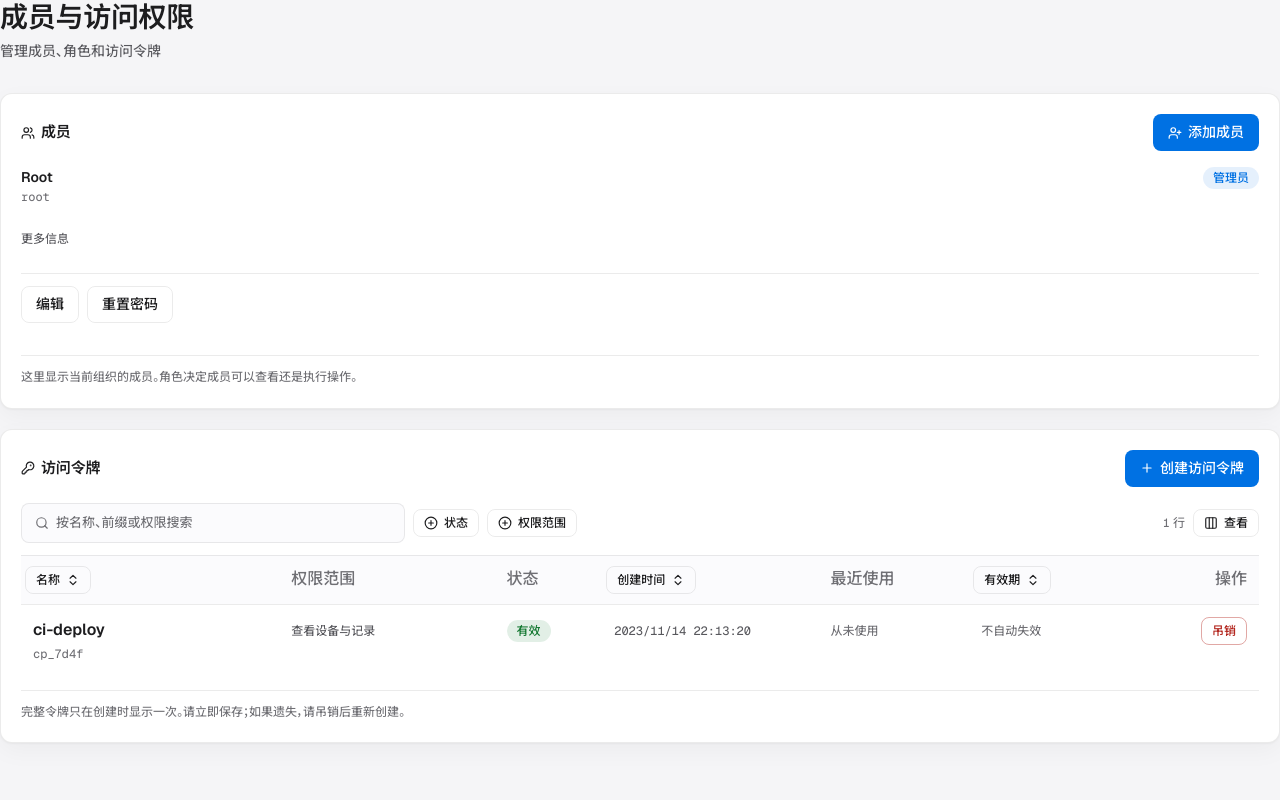
Test: TestCreateTokenSecretShownOnce › 复制给出可访问状态提示（role=status + aria-live）
Click the button "创建访问令牌" at (1192, 468), box [1125,450,1259,486]
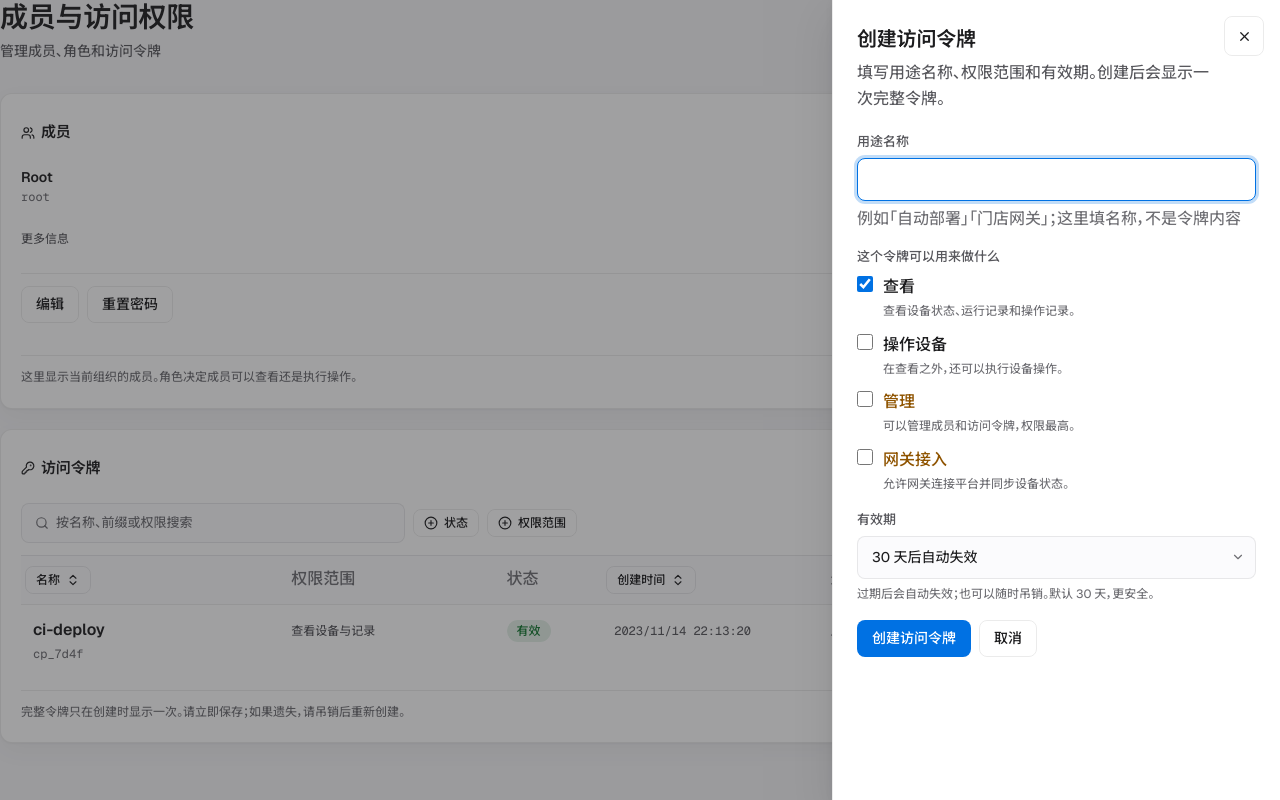
Type "ci-deploy" into the field labelled "用途名称" at (1056, 179), box [857,158,1256,200]
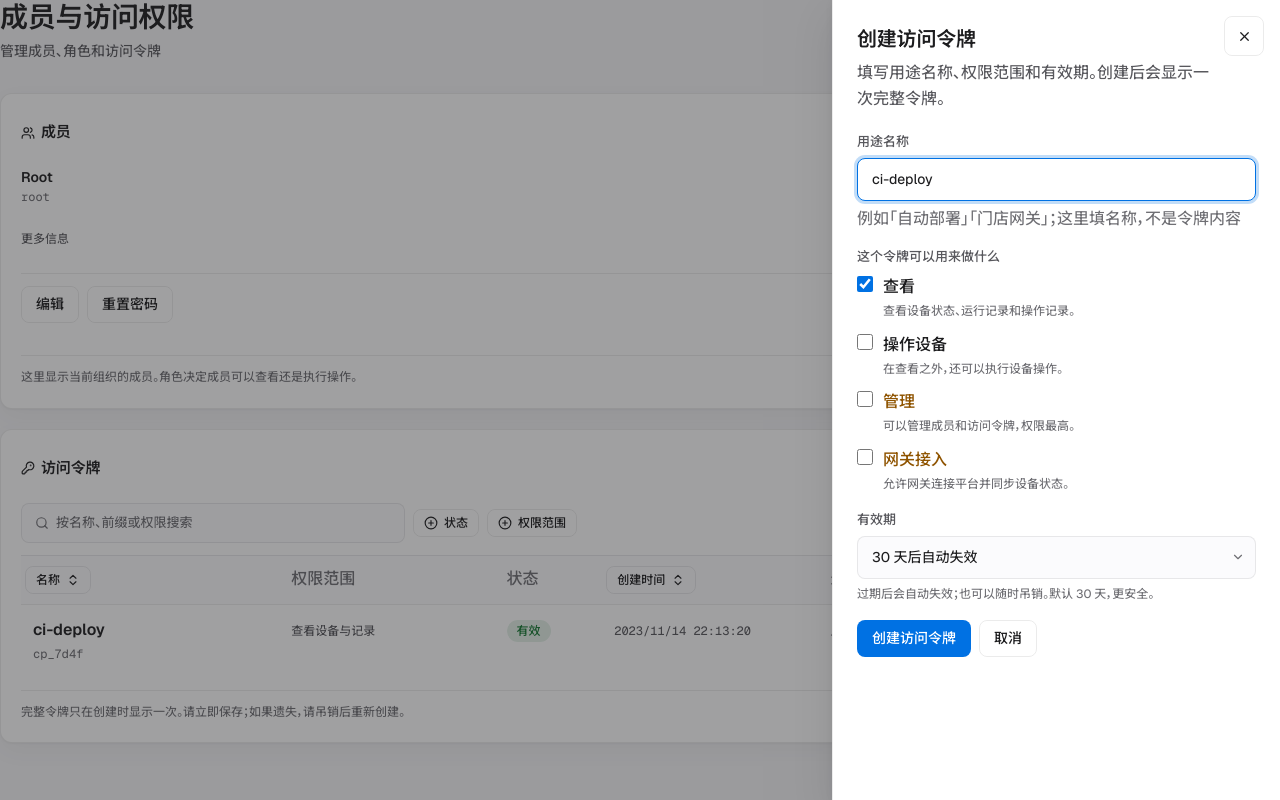
Click the button "创建访问令牌" at (914, 638), box [857,620,971,657]
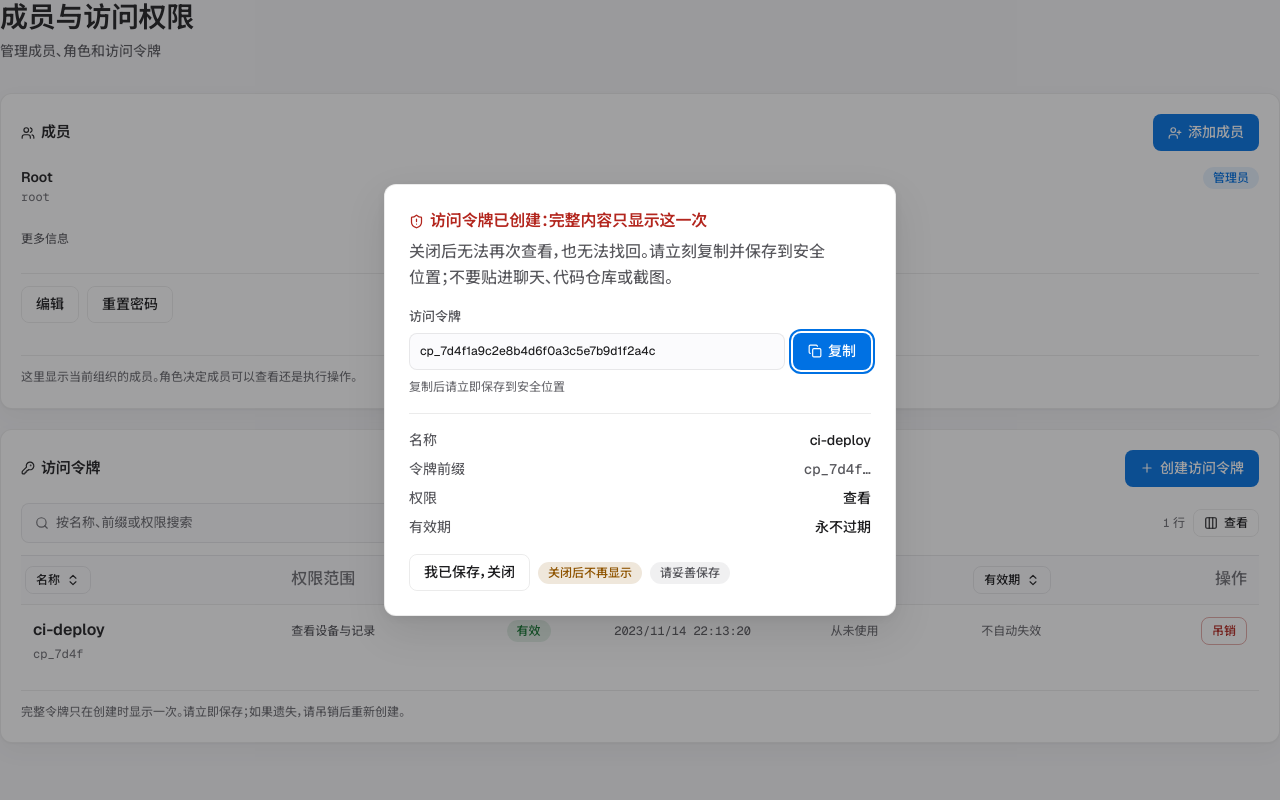
expect the message reads "复制后请立即保存到安全位置": met, box [409,378,565,394]
Click the button with aria-label "复制访问令牌" at (832, 351), box [793,332,871,370]
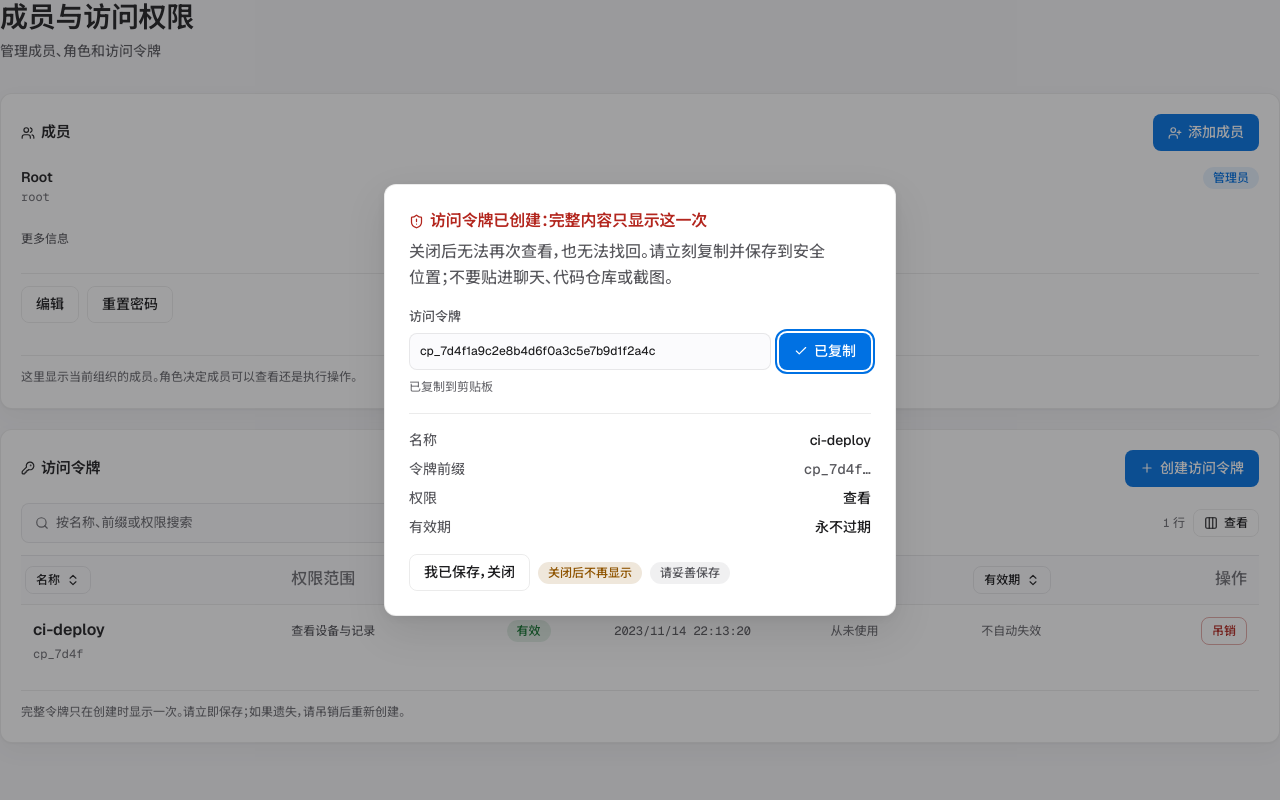
expect the text "已复制到剪贴板" is shown: met, box [409,378,493,394]
